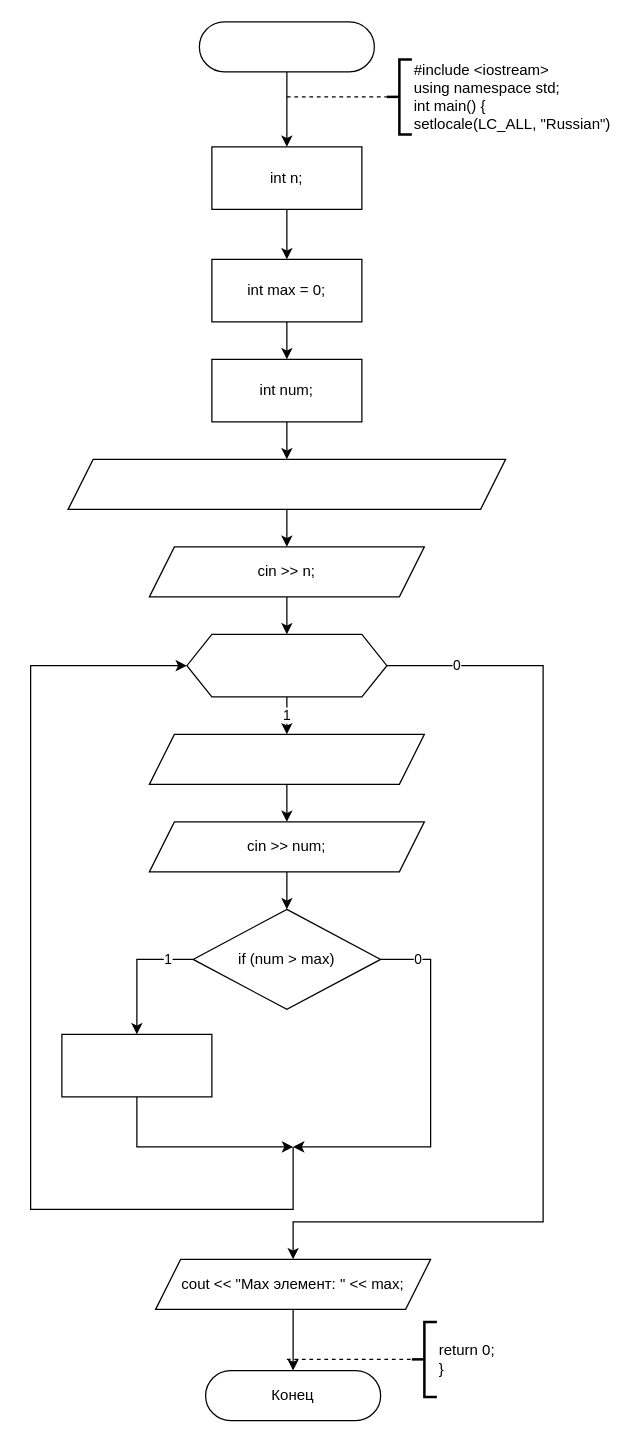
Some shapes in this 633 by 1443 pixel diagram are drawn without their labels. Here are the shapes that lost their labels. From the top down, the centre of each, then its label:
(x=286, y=46): Запуск
(x=286, y=483): cout << "Введите длину последовательности:" << endl;
(x=286, y=665): for (int i = 1; i <= n; i++)
(x=286, y=758): cout << "Введите число:" << endl;
(x=136, y=1065): max = num;
